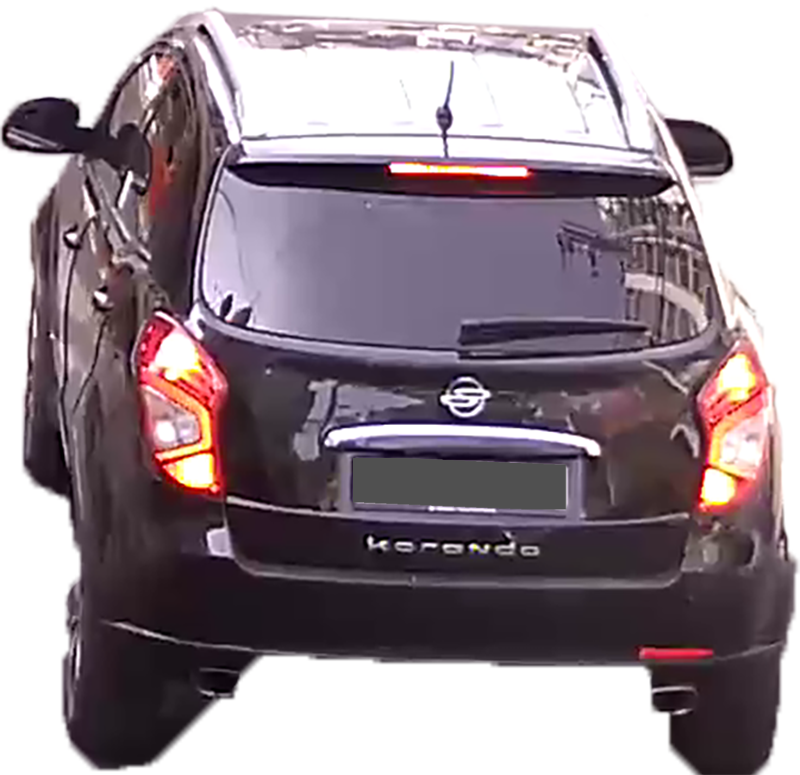P1_: (567, 462, 574, 470)
bbox: (352, 453, 568, 515)
